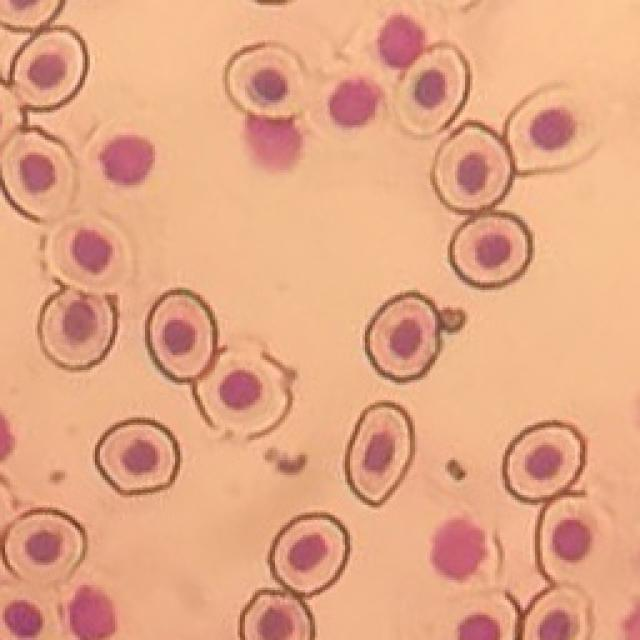RBC: (194, 346, 291, 438), (505, 85, 599, 173), (432, 121, 512, 212), (345, 401, 414, 506), (45, 214, 134, 291), (269, 512, 350, 596), (396, 44, 469, 136), (365, 292, 440, 381), (1, 129, 75, 219), (502, 421, 585, 501), (146, 289, 218, 381), (95, 418, 179, 495), (538, 496, 614, 581), (39, 288, 118, 369), (12, 28, 89, 109), (450, 212, 531, 288), (4, 509, 85, 582), (225, 44, 301, 119), (434, 590, 518, 639), (0, 582, 68, 640), (240, 590, 314, 640), (523, 588, 590, 640), (0, 1, 64, 29)
WBC: (431, 519, 488, 580), (245, 115, 302, 169), (100, 134, 154, 185), (69, 585, 115, 640), (378, 14, 425, 67), (329, 78, 379, 126)
